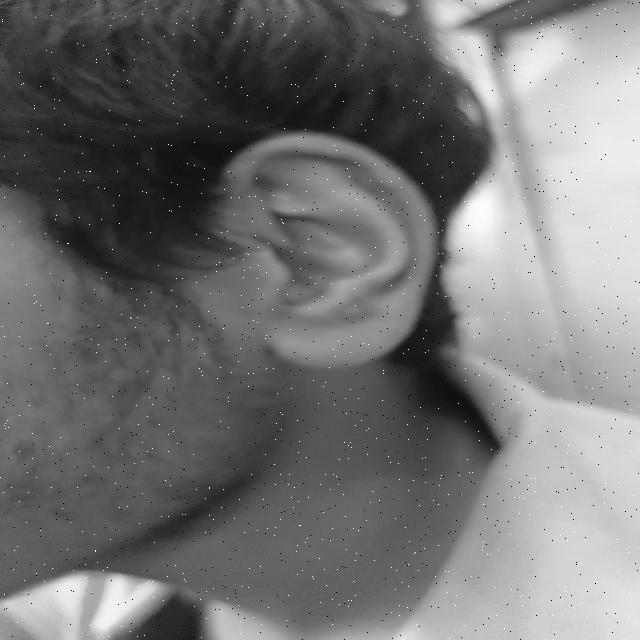ear: (220, 133, 435, 368)
